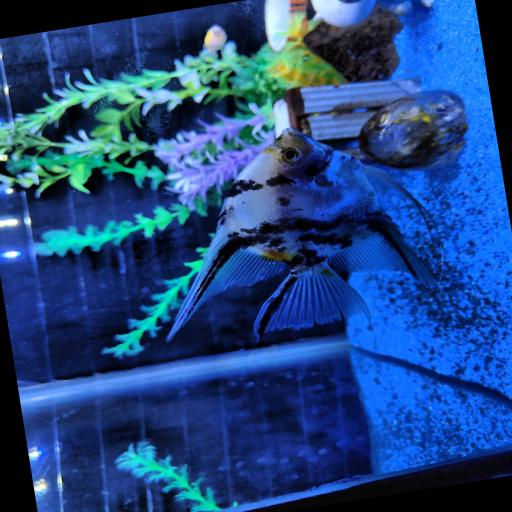Fish: (169, 128, 436, 338), (204, 24, 227, 52)
